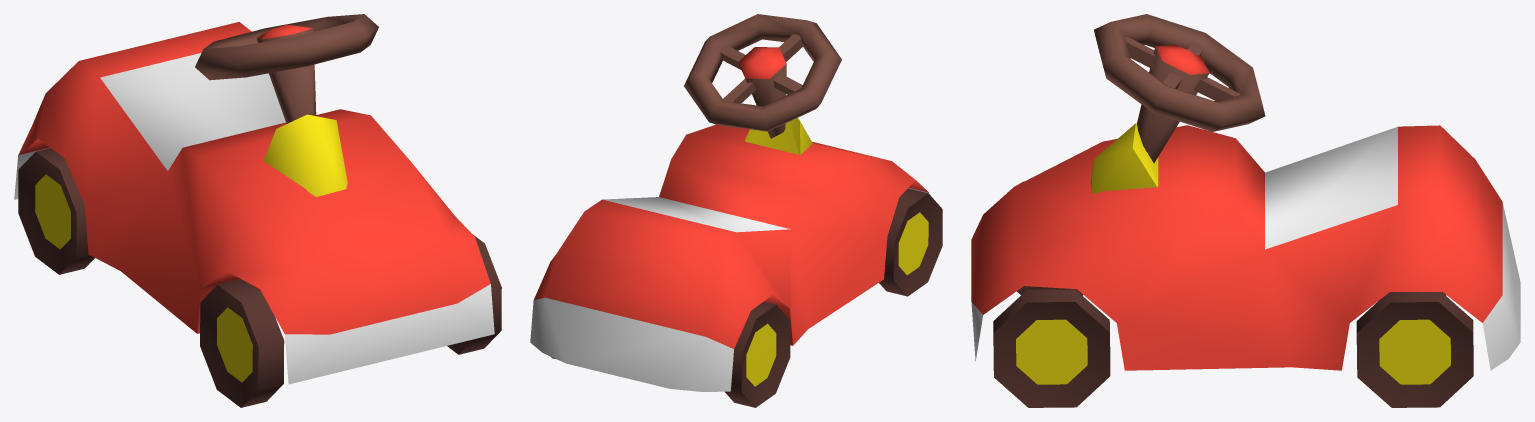
File: Juguete1.obj
The picture shows the model from 3 angles, left to right: view 1: azimuth 30°, elevation 25°; view 2: azimuth 150°, elevation 25°; view 3: azimuth 270°, elevation 25°; orthographic projection. The views are drawn at different scales.
Visible parts, largest first — view 1: toy_001; view 2: toy_001; view 3: toy_001.
Part boxes in pixels (<box>): toy_001: <box>14,14,501,407</box>; toy_001: <box>530,14,942,407</box>; toy_001: <box>971,14,1520,407</box>.
Size of the model in its own units: 3.65 by 4.54 by 7.11.
1 material, 1 textured.
